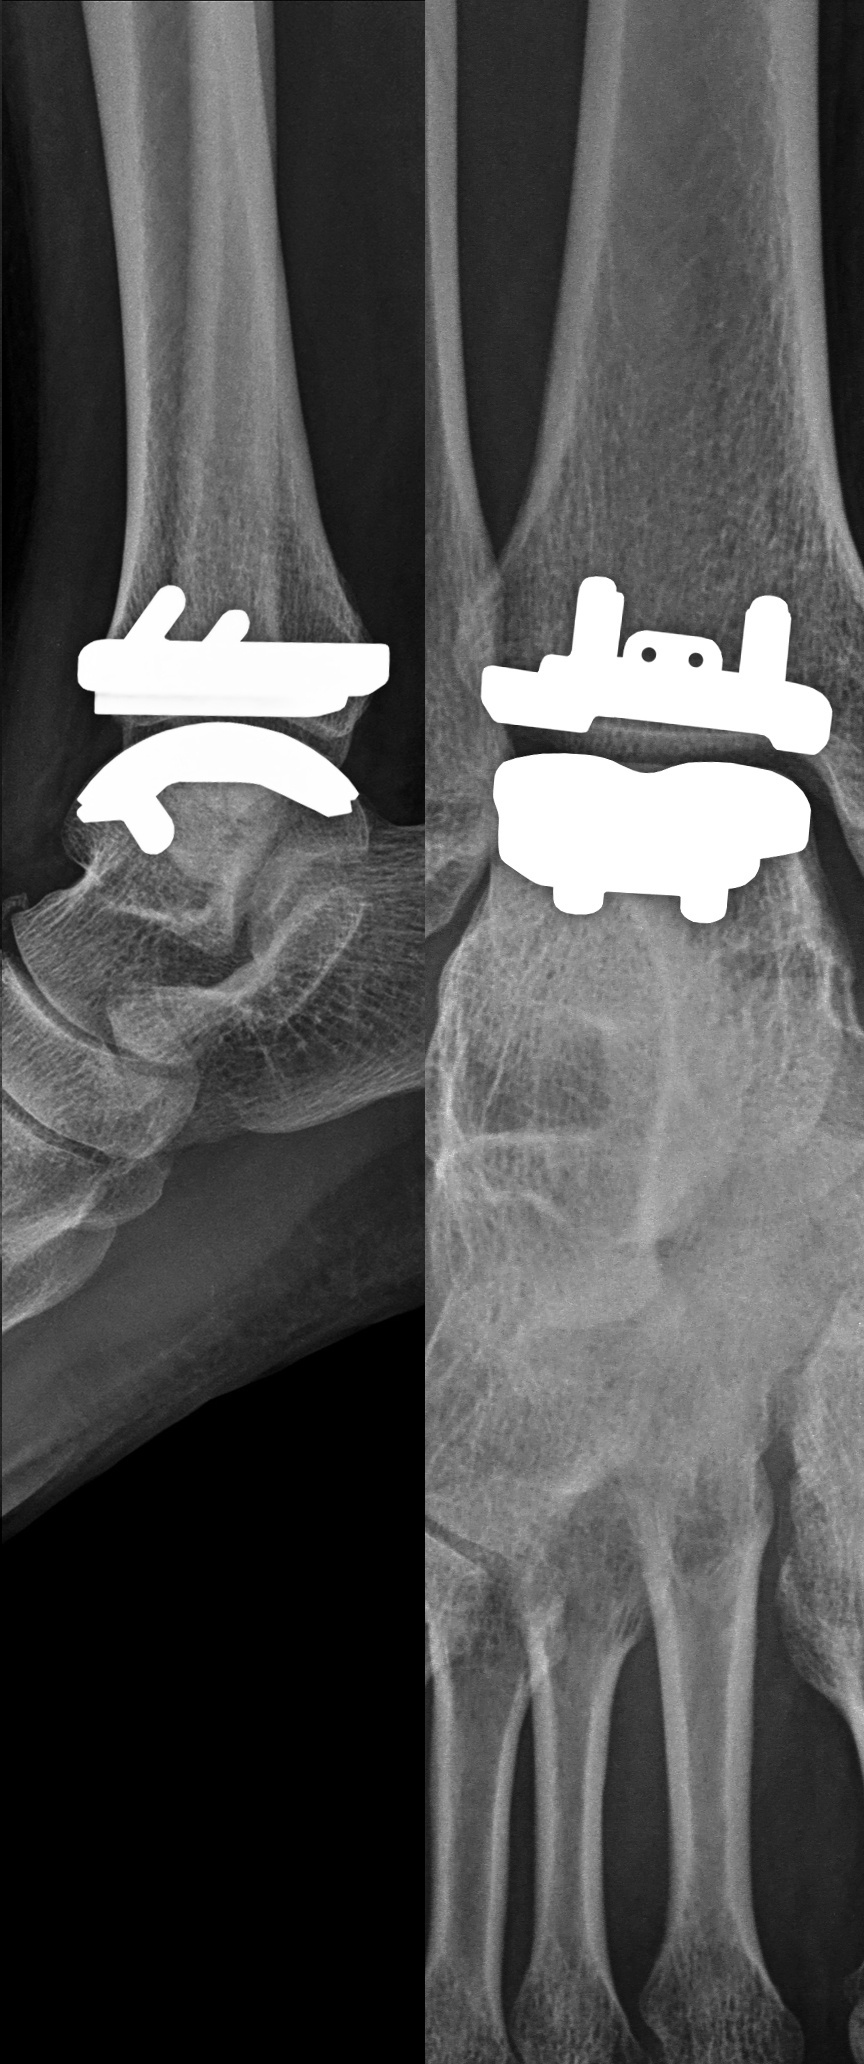Cadence-Integra: (462, 566, 846, 945), (43, 569, 396, 882)
